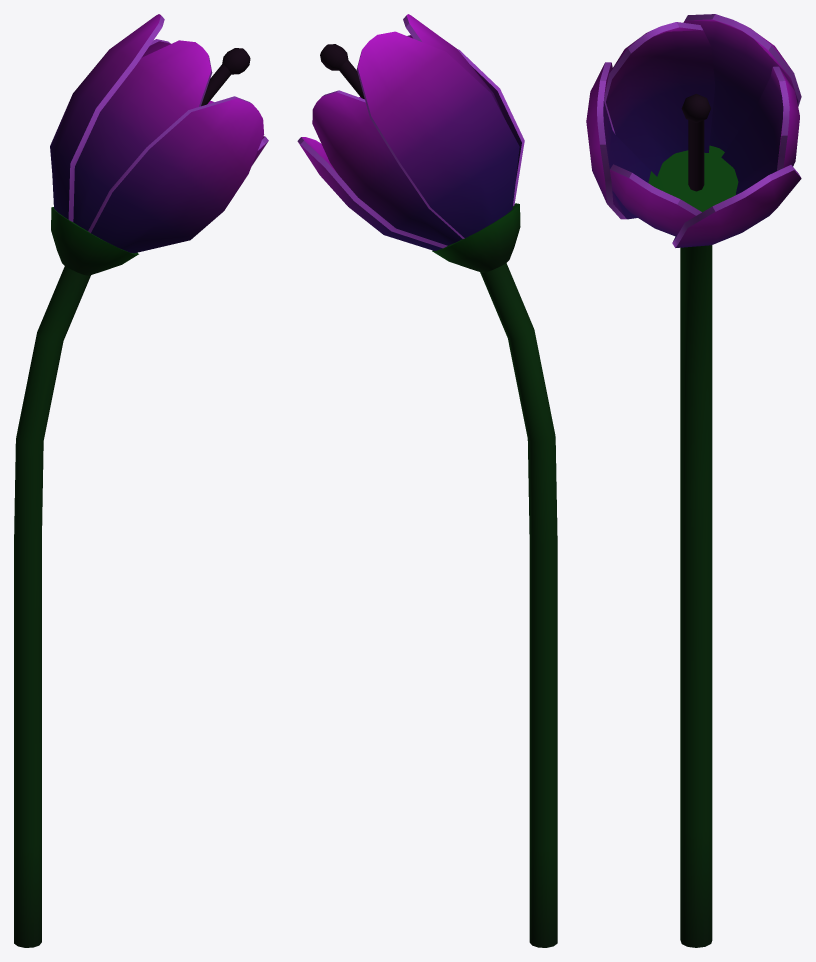
The model's file is flower_1.fbx.
3 views of the same model, side by side, from view 1: azimuth 30°, elevation 25°; view 2: azimuth 150°, elevation 25°; view 3: azimuth 270°, elevation 25° (orthographic). The views are drawn at different scales.
Parts seen in each view (by area): view 1: Flower_1; view 2: Flower_1; view 3: Flower_1.
Part boxes in pixels (x1=…): Flower_1: x1=14, y1=14, x2=268, y2=947; Flower_1: x1=297, y1=14, x2=557, y2=947; Flower_1: x1=586, y1=14, x2=801, y2=947.
Size of the model in its own units: 19.27 by 68.54 by 13.31.
